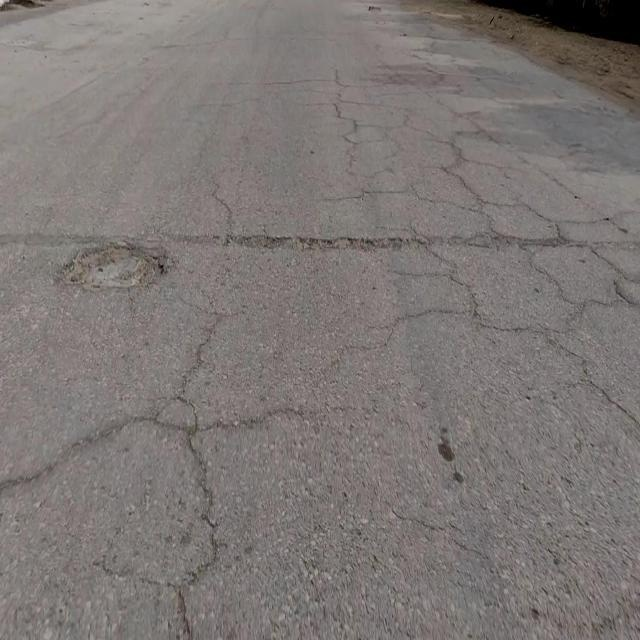pothole: (56, 242, 163, 295)
